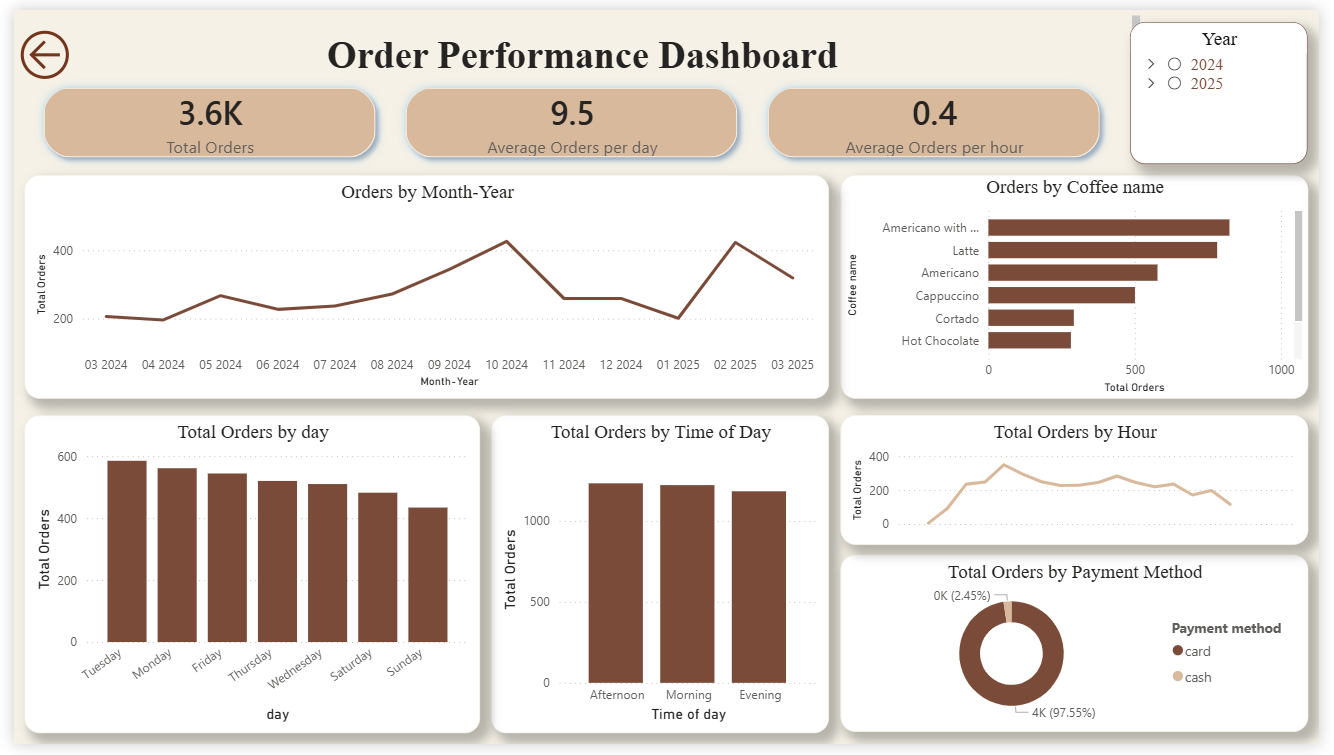

Layout of this report page (visuals, bound fields, positions):
{"tool":"powerbi","page":{"name":"Order","canvas":[1280,720],"ordinal":1},"visuals":[{"type":"columnChart","title":"Total Orders by Time of Day","fields":{"Category":["coffee_sales_clean.time_of_day"],"Y":["coffee_sales_clean.Total Orders"]},"box":[467.9,396.7,331.6,311.9],"z":0},{"type":"columnChart","fields":{"Y":["coffee_sales_clean.Total Orders"],"Category":["coffee_sales_clean.day"]},"box":[10.6,396.7,446.7,311.9],"z":1000},{"type":"donutChart","title":"Total Orders by Payment Method","fields":{"Category":["coffee_sales_clean.payment_method"],"Y":["coffee_sales_clean.Total Orders"]},"box":[810.1,534.5,458.8,174.1],"z":2000},{"type":"cardVisual","fields":{"Data":["coffee_sales_clean.Total Orders","coffee_sales_clean.Average Orders per day","coffee_sales_clean.Average Orders per hour"]},"box":[0,47.5,1094.4,126.6],"z":2500},{"type":"barChart","title":"Orders by Coffee name","fields":{"Category":["coffee_sales_clean.coffee_name"],"Y":["coffee_sales_clean.Total Orders"]},"box":[810.1,162,458.8,219.6],"z":3000},{"type":"lineChart","title":"Total Orders by Hour","fields":{"Category":["coffee_sales_clean.hour"],"Y":["coffee_sales_clean.Total Orders"]},"box":[810.1,396.7,458.8,127.2],"z":4000},{"type":"lineChart","title":"Orders by Month-Year","fields":{"Category":["coffee_sales_clean.Month-Year"],"Y":["coffee_sales_clean.Total Orders"]},"box":[10.6,162,788.9,219.6],"z":6000},{"type":"textbox","box":[15,0,1094.4,66.2],"z":7000},{"type":"listSlicer","fields":{"Values":["coffee_sales_clean.date.Variation.Date Hierarchy.Year","coffee_sales_clean.date.Variation.Date Hierarchy.Quarter","coffee_sales_clean.date.Variation.Date Hierarchy.Month","coffee_sales_clean.date.Variation.Date Hierarchy.Day"]},"box":[1094.8,12.1,174.1,139.3],"z":8000},{"type":"actionButton","box":[0,11.5,60.4,64.7],"z":9000}]}

Visuals, with their boxes in screenshot pixels (x1, y1, x2, y2), scaled from the page's 1280x720 canvas onto the 1334x755 screenshot:
"Total Orders by Time of Day" columnChart: 488 416 833 743
columnChart - coffee_sales_clean.Total Orders x coffee_sales_clean.day: 11 416 477 743
"Total Orders by Payment Method" donutChart: 844 560 1322 743
cardVisual - coffee_sales_clean.Total Orders x coffee_sales_clean.Average Orders per day: 0 50 1141 183
"Orders by Coffee name" barChart: 844 170 1322 400
"Total Orders by Hour" lineChart: 844 416 1322 549
"Orders by Month-Year" lineChart: 11 170 833 400
textbox: 16 0 1156 69
listSlicer - coffee_sales_clean.date.Variation.Date Hierarchy.Year x coffee_sales_clean.date.Variation.Date Hierarchy.Quarter: 1141 13 1322 159
actionButton: 0 12 63 80
